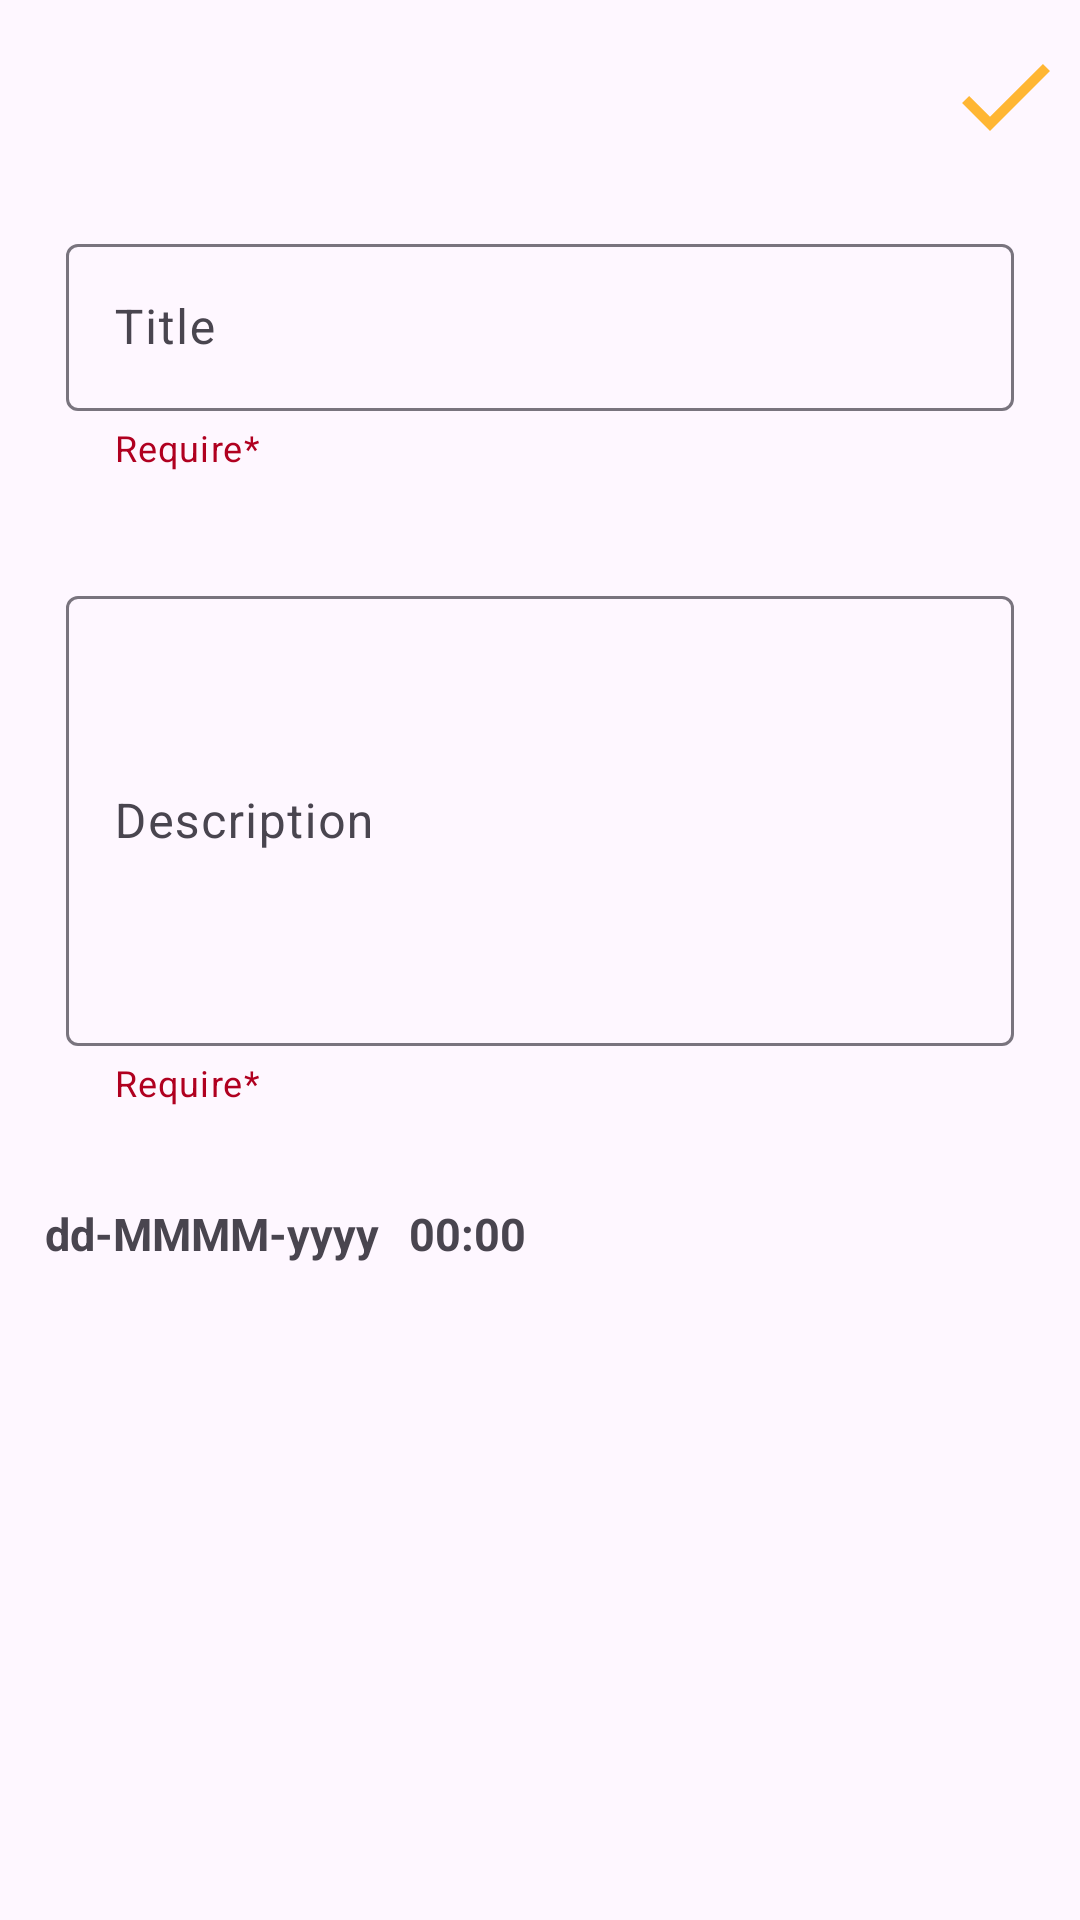

Screen size 1080 × 1920. Icon name, then its center in pixels as point (x, y):
true: point (1006, 97)
